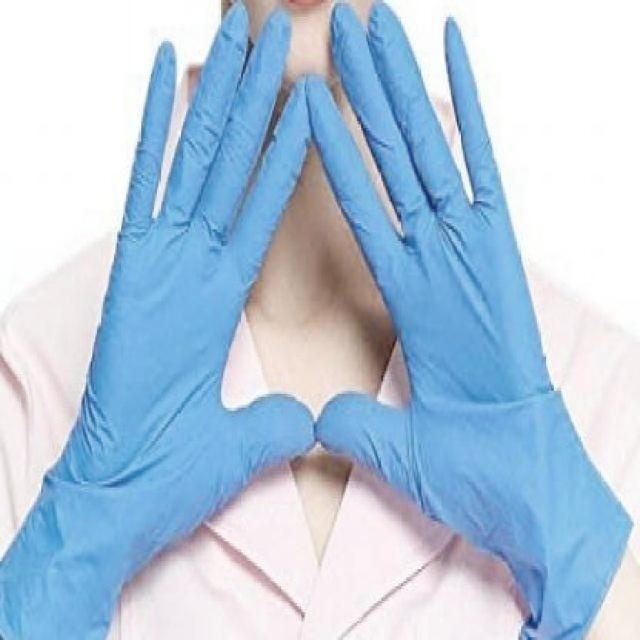Guantes: (289, 3, 640, 640), (35, 21, 312, 580)
